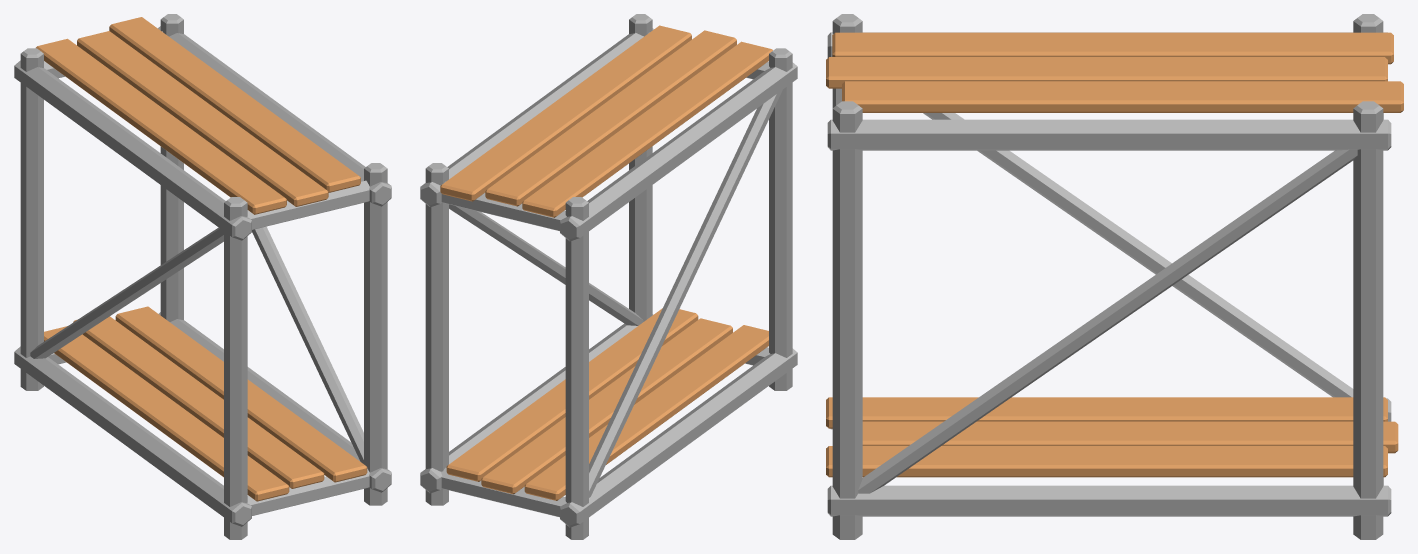
Rendered from scaffolding_a.glb.
3 views of the same model, side by side, from view 1: azimuth 30°, elevation 25°; view 2: azimuth 150°, elevation 25°; view 3: azimuth 270°, elevation 25° (orthographic). The views are drawn at different scales.
Parts seen in each view (by area): view 1: Scaffolding A2; view 2: Scaffolding A2; view 3: Scaffolding A2.
Part boxes in pixels (<box>): Scaffolding A2: <box>14,14,391,539</box>; Scaffolding A2: <box>420,14,797,539</box>; Scaffolding A2: <box>826,14,1403,539</box>.
Bounding box in the file's own units: 1.94 × 3.9 × 4.76.
